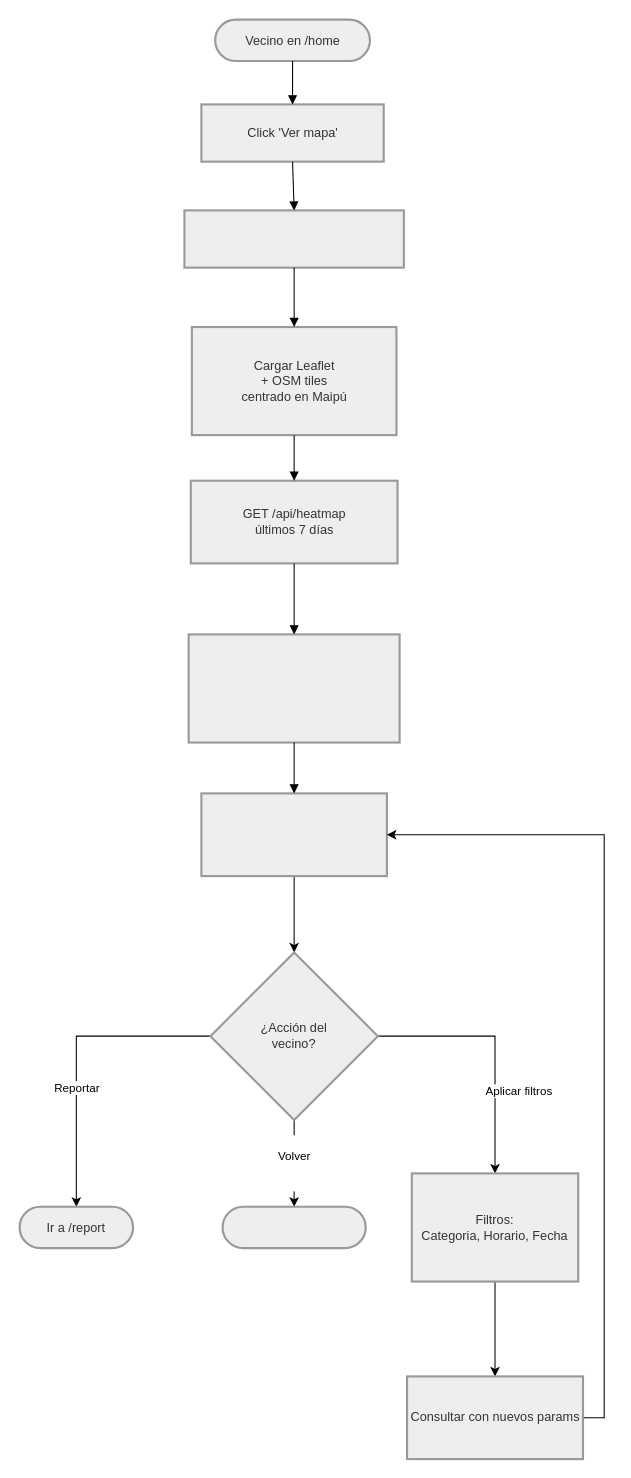
Image size: 631x1478. Some labels were removed from this diagram. Each missing label, with the box of its shape:
Backend agrega: sensores + reportes ponderados: (187, 633, 400, 743)
Navegar a /heatmap: (183, 209, 404, 268)
Renderizar capa de heatmap: (200, 792, 387, 877)
Volver a /home: (221, 1205, 366, 1249)
